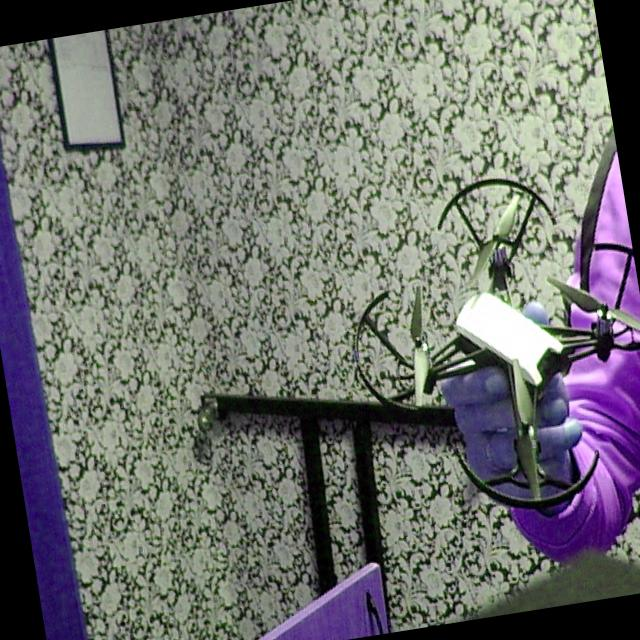drone: (327, 151, 640, 546)
